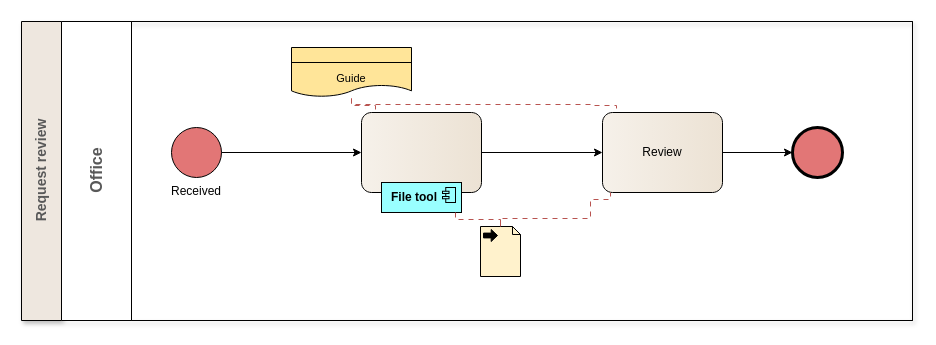
Image size: 936x345. Some labels were removed from this diagram. The shapes that lost their labels are listed below. From the top down, each one's centre as x and y in pixels, then its label:
(x=421, y=152): Prepare
(x=817, y=152): Closed
(x=500, y=251): Request file
